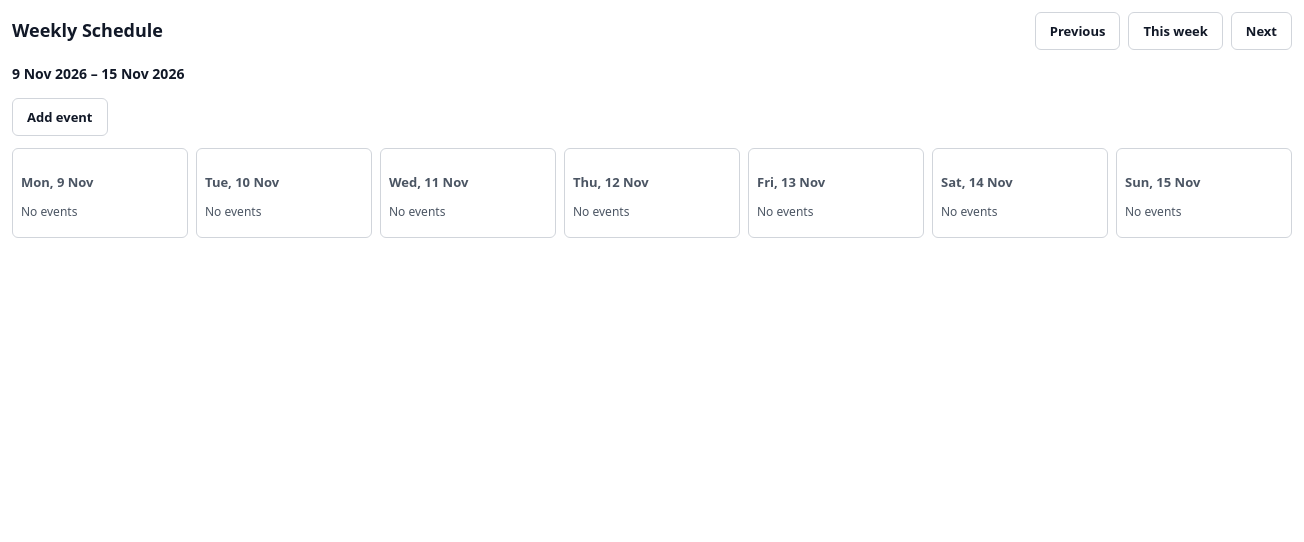
Test: WeeklySchedule (M3) › adds an event with POST and reloads the week (FR-M3-01)
The image size is (1304, 542).
Click the button "Add event": (60, 117) x1=12 y1=98 x2=108 y2=136
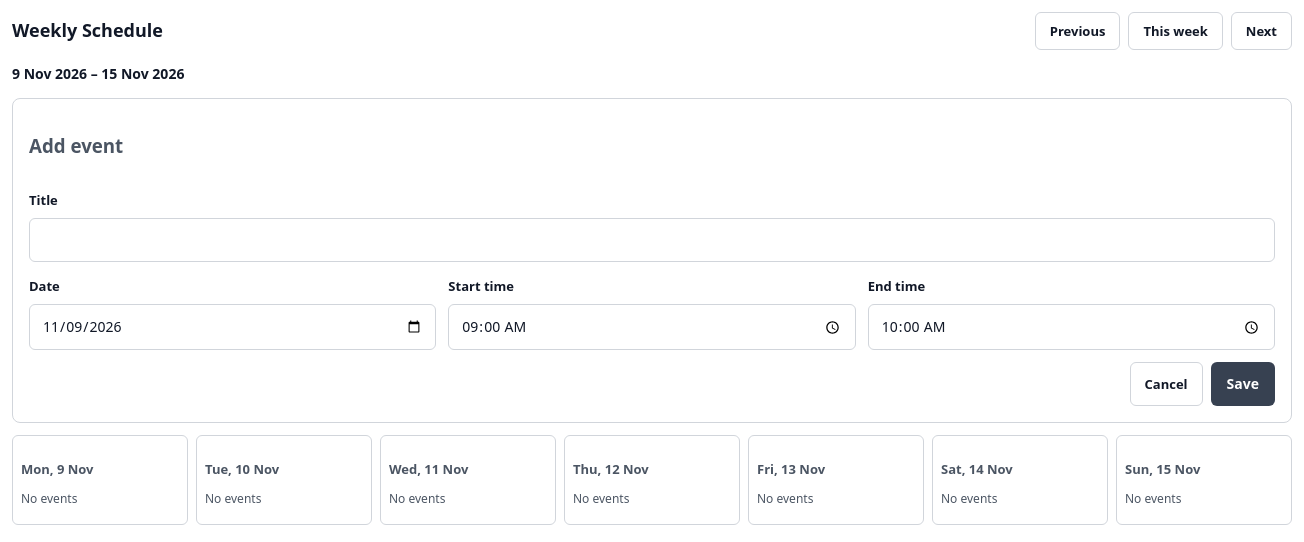
In the field labelled "Title": (652, 240) x1=29 y1=218 x2=1275 y2=262, type "Piano"
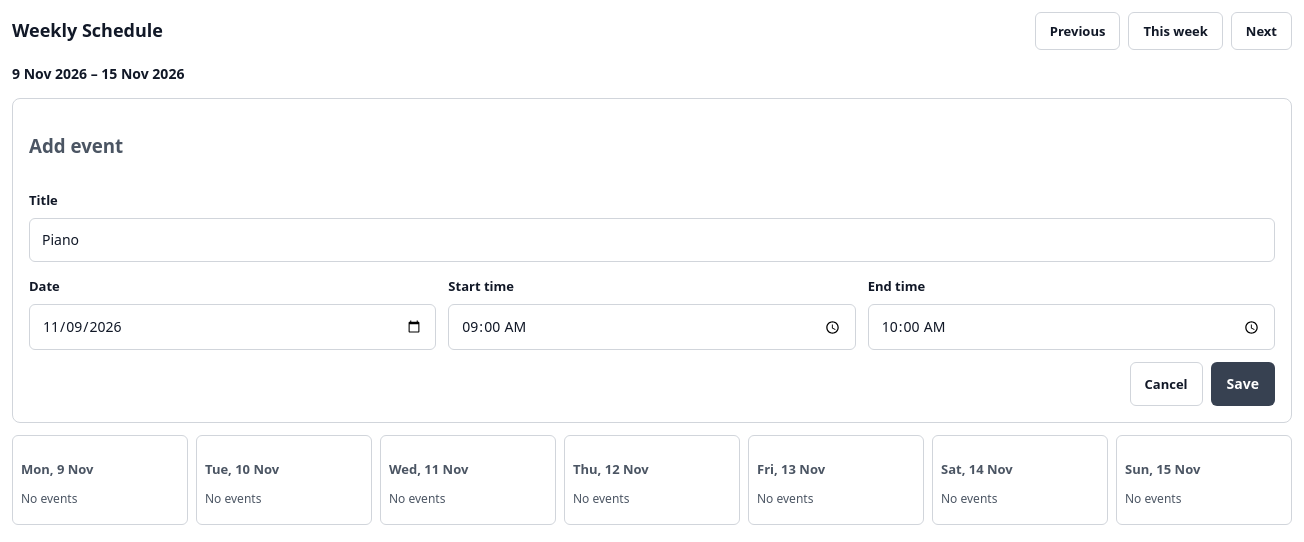
In the date field labelled "Date": (233, 327) x1=29 y1=304 x2=436 y2=350, type "2026-11-11"
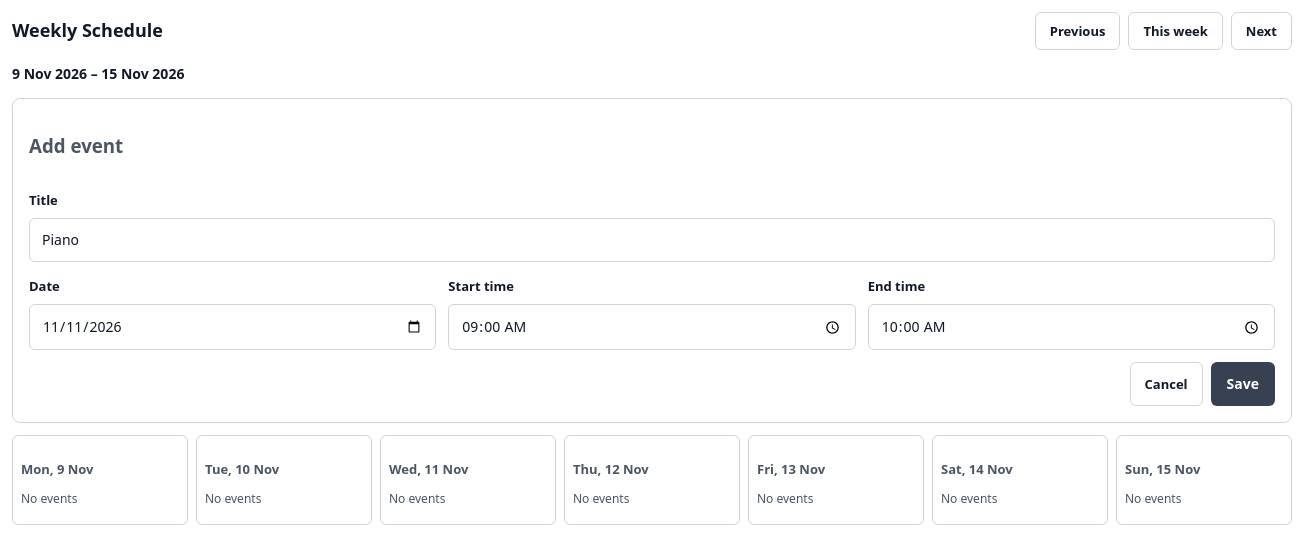
Replace the text in the time field labelled "Start time" with "17:00": (652, 327) x1=448 y1=304 x2=856 y2=350
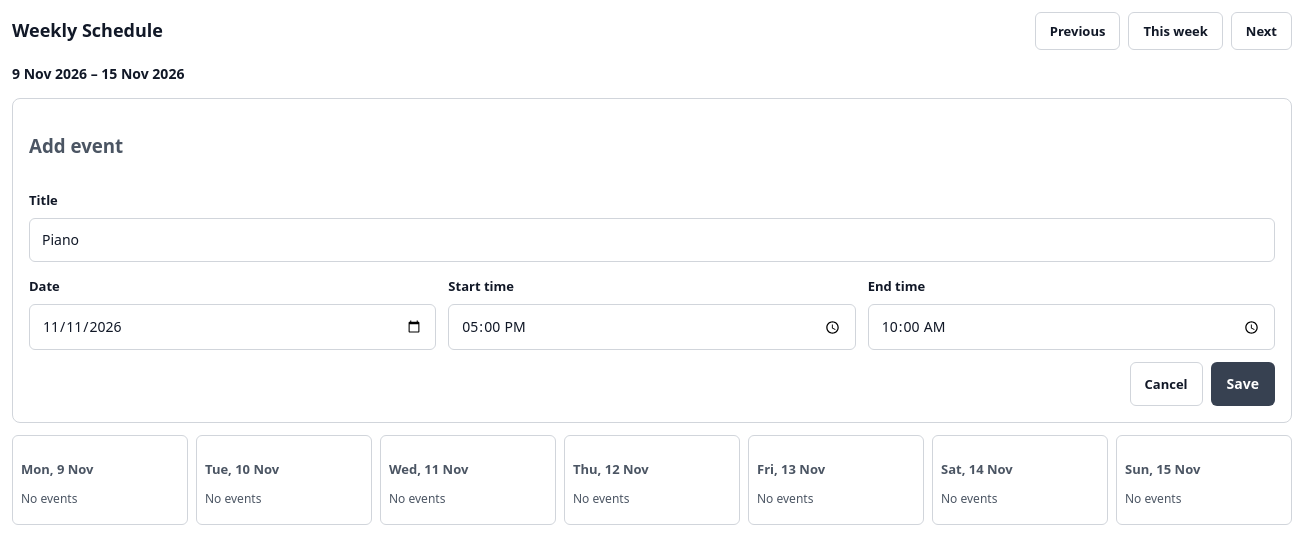
Replace the text in the time field labelled "End time" with "18:00": (1071, 327) x1=868 y1=304 x2=1275 y2=350
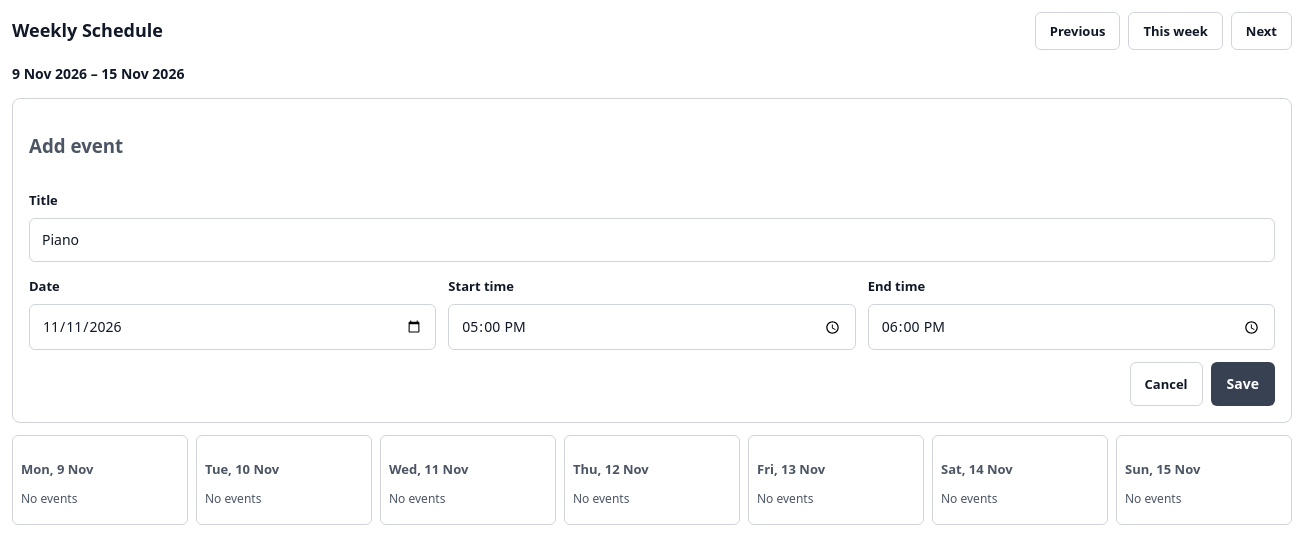
Click the button "Save": (1243, 384) x1=1211 y1=362 x2=1275 y2=406
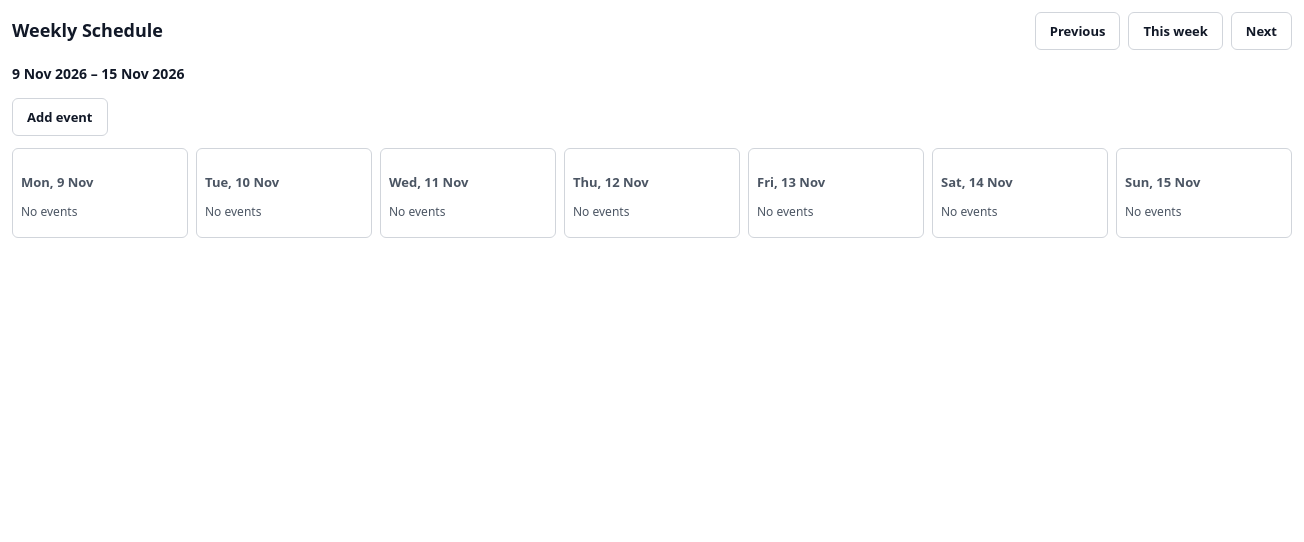
expect the button "Add event" is shown: met, box x1=12 y1=98 x2=108 y2=136
